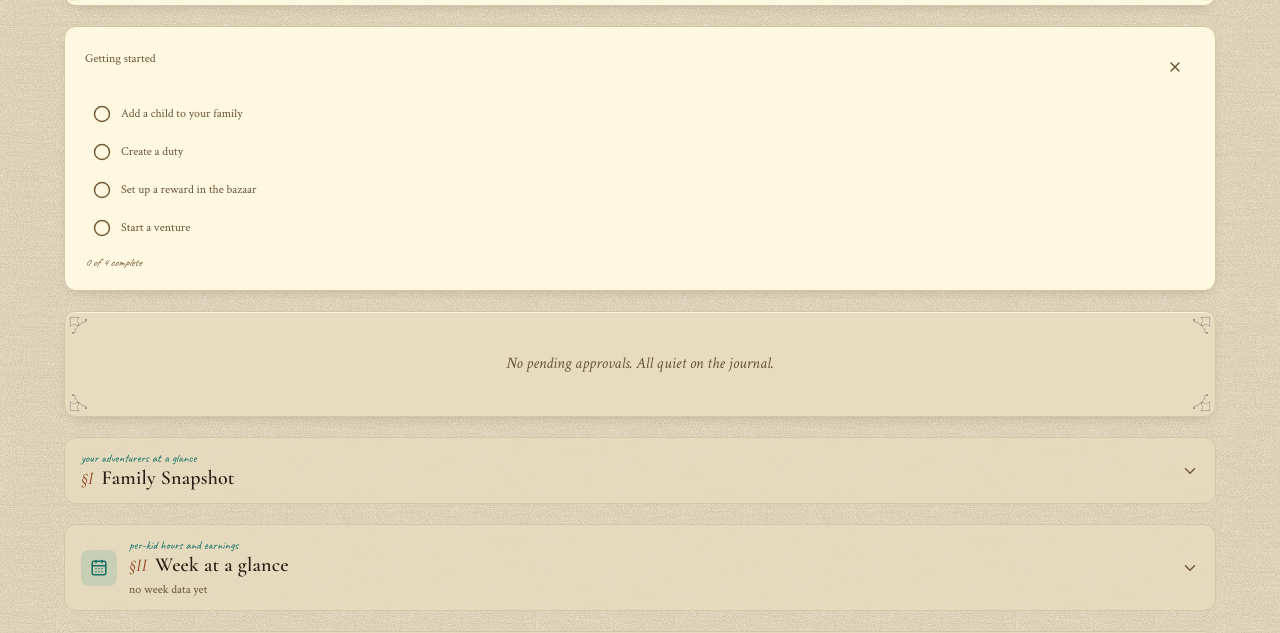
Test case: ParentDashboard › makes the whole Family Snapshot tile a single tap target
(page scrolled)
Click the button "your adventurers at a glance §I Family Snapshot": (139, 458) [65,438,1215,503]
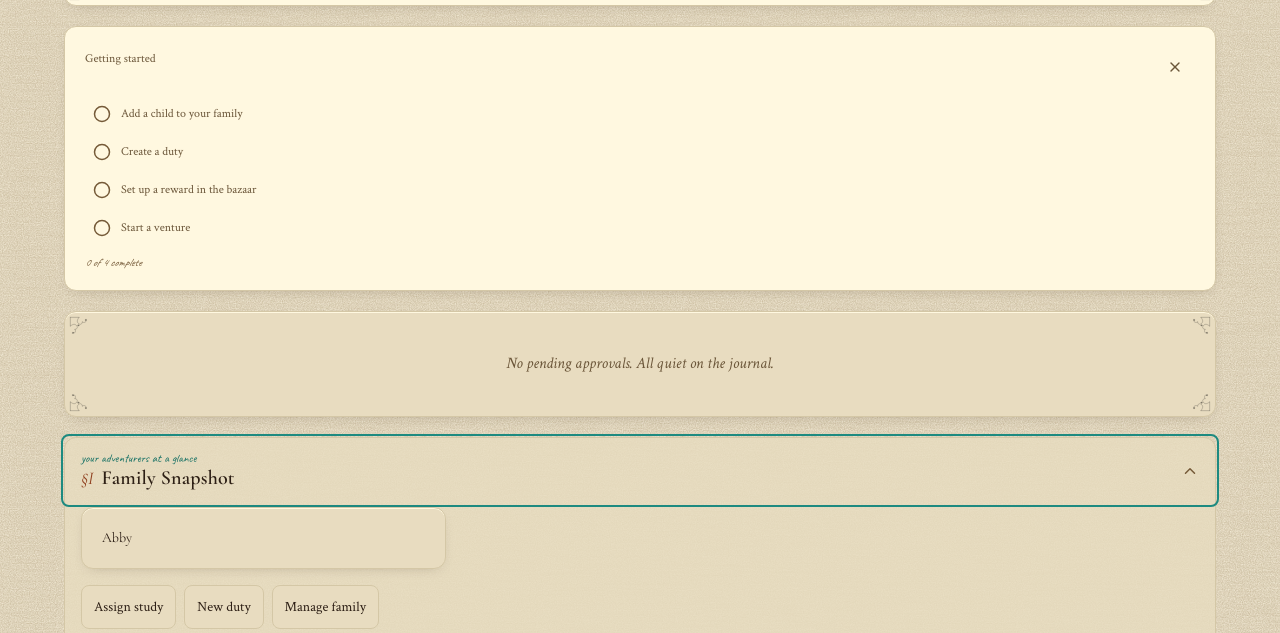
Check: the button with aria-label "manage abby" reads "Abby", box [81,507,446,569]
